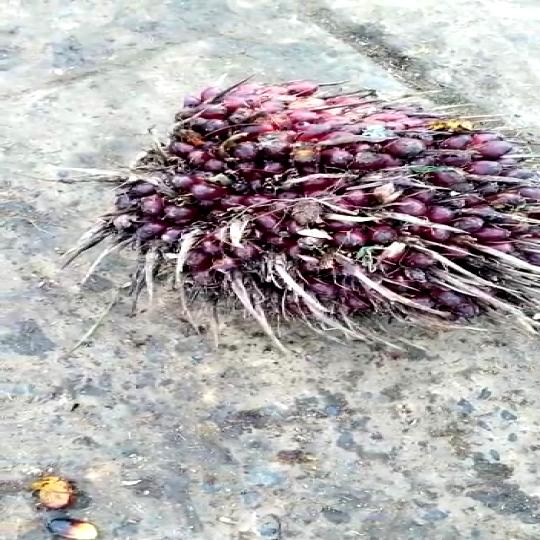masak: (98, 79, 540, 327)
